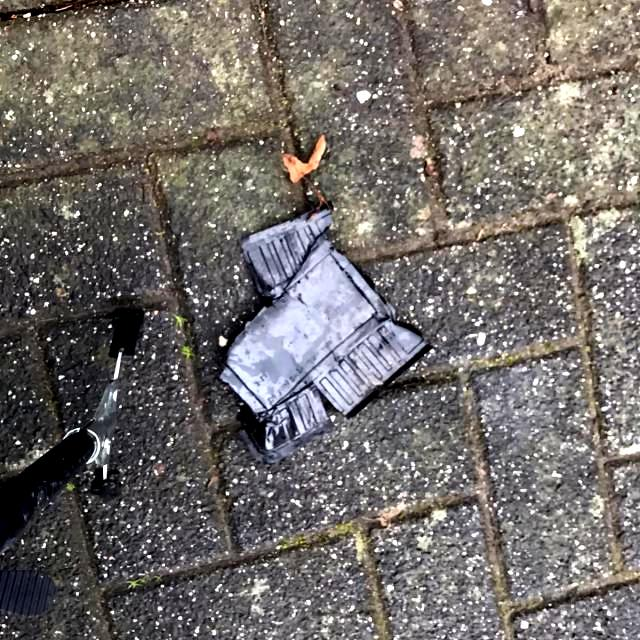Plastic: (213, 201, 441, 469)
